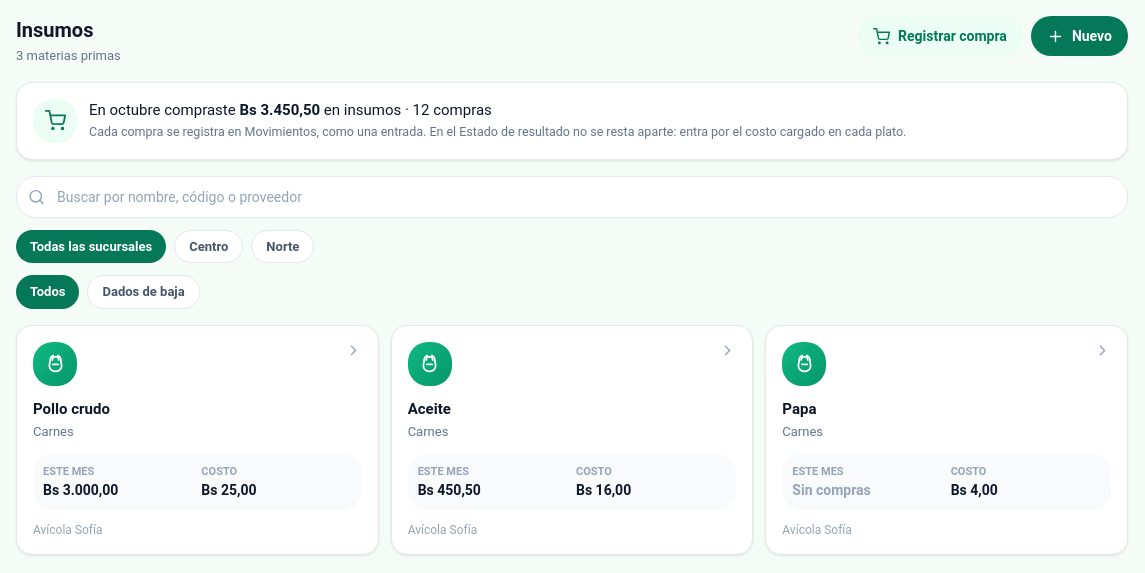
Test: Restaurante: lo invertido al cambiar de sucursal › mientras llega lo de la sucursal nueva no queda la plata de la anterior
Check: the heading "Pollo crudo" is shown, box left=33, top=400, right=110, bottom=418
Click the button "Norte". click: {"x": 283, "y": 246}
box: left=251, top=230, right=314, bottom=263
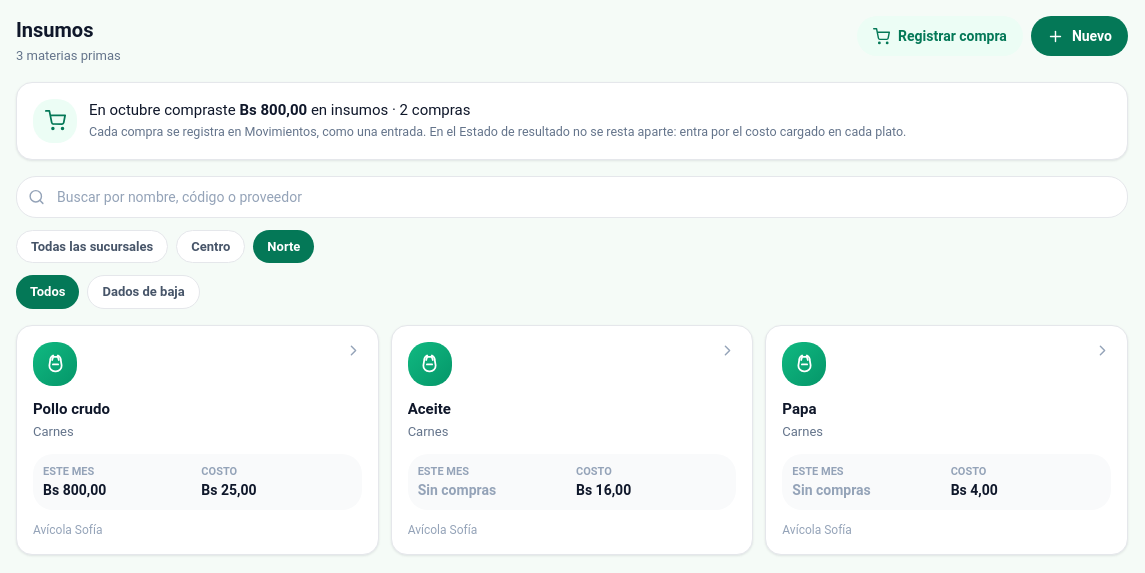
Check: the 1st text "Sin compras" is shown, box left=418, top=482, right=496, bottom=498
